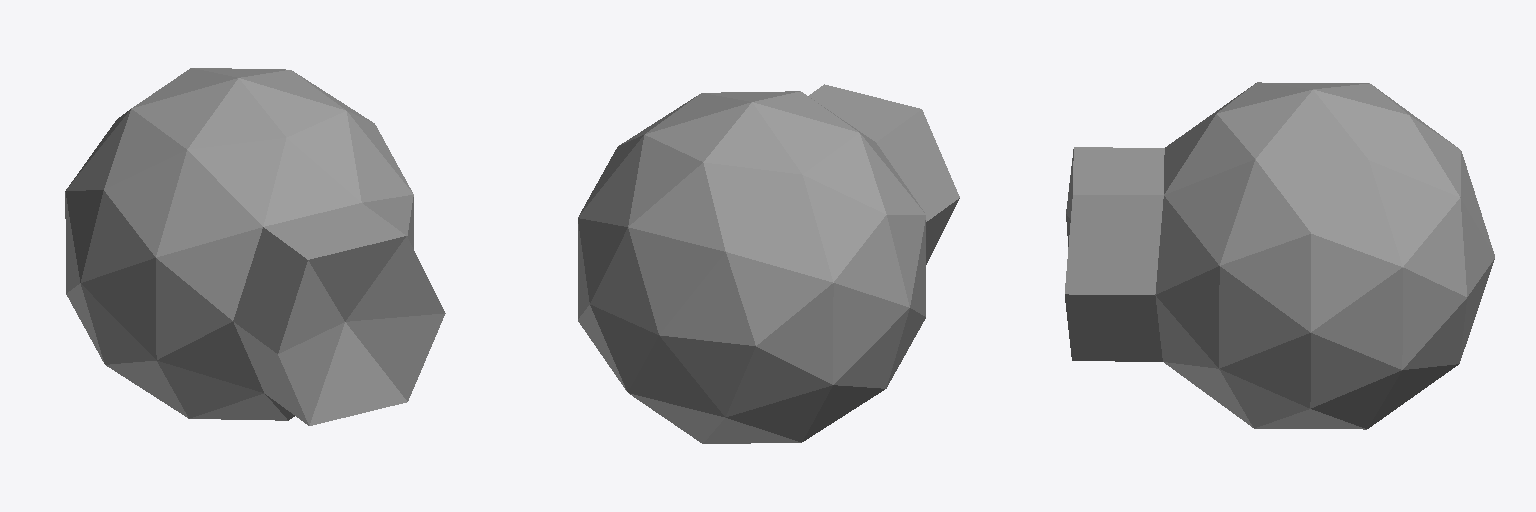
The model's file is rearGun.obj.
3 renders of one model, left to right at view 1: azimuth 30°, elevation 25°; view 2: azimuth 150°, elevation 25°; view 3: azimuth 270°, elevation 25°, orthographic.
Visible parts, largest first — view 1: Cube; view 2: Cube; view 3: Cube.
Boxes of the visible parts, x1=… form: Cube: x1=65, y1=68, x2=445, y2=425; Cube: x1=578, y1=84, x2=959, y2=443; Cube: x1=1065, y1=82, x2=1494, y2=429.
Size of the model in its own units: 2.96 by 2.96 by 3.47.